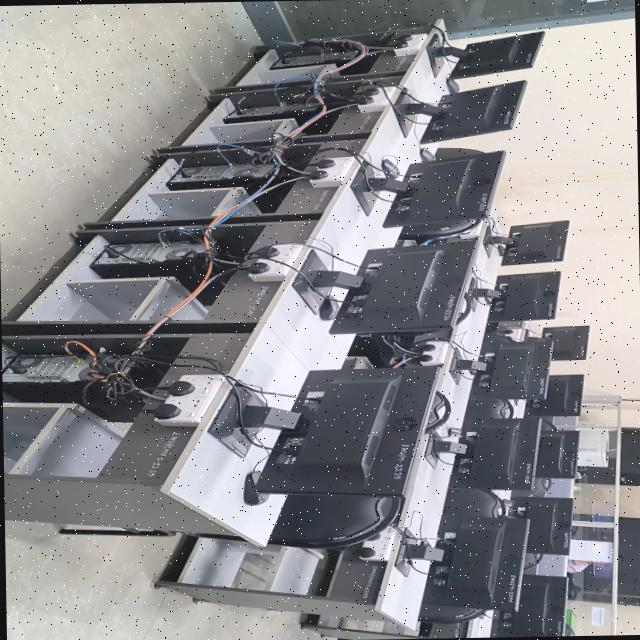Chair: (268, 494, 402, 548), (442, 487, 504, 519), (398, 219, 477, 244), (461, 398, 511, 432), (417, 603, 487, 623), (510, 477, 550, 497), (480, 333, 513, 354)
Cpu: (1, 347, 136, 382), (93, 242, 203, 264), (169, 163, 271, 183), (224, 104, 316, 119), (273, 51, 355, 67)
Monitor: (254, 367, 438, 497), (313, 238, 478, 335), (356, 151, 504, 227), (422, 516, 527, 610), (394, 80, 525, 143), (449, 417, 540, 489), (451, 337, 552, 399), (490, 574, 566, 637), (449, 31, 544, 78), (487, 271, 560, 321), (512, 496, 572, 555), (498, 220, 567, 265), (524, 374, 582, 417), (535, 429, 578, 479), (541, 326, 588, 360)
Mouse: (243, 473, 268, 505), (318, 295, 336, 320), (380, 156, 400, 178), (446, 78, 460, 92), (448, 427, 460, 436)
